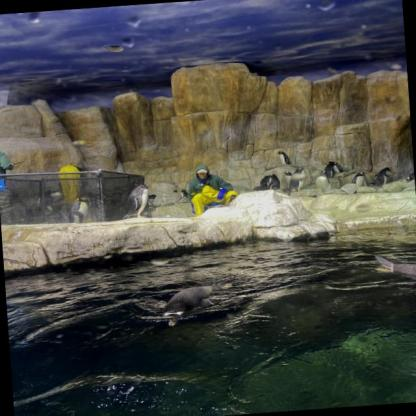penguin: (162, 279, 231, 326), (371, 248, 415, 290), (123, 182, 158, 223), (286, 162, 313, 196), (66, 193, 94, 225), (369, 167, 394, 189), (264, 171, 283, 193), (348, 170, 368, 190), (328, 156, 349, 174), (282, 167, 296, 192), (275, 148, 292, 168), (320, 161, 336, 181), (402, 168, 414, 186)
